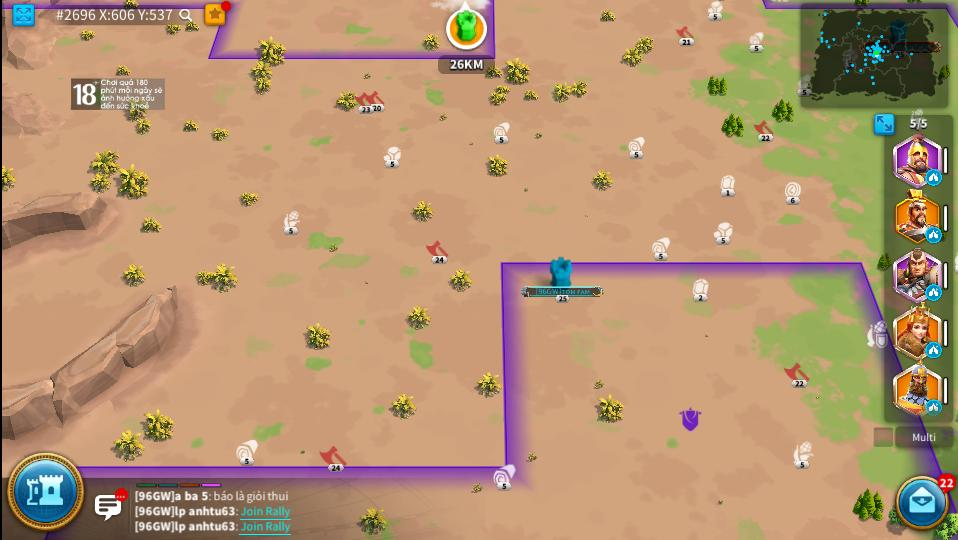gem-z-out: (693, 278, 709, 302), (720, 173, 734, 198)
march_idle: (925, 228, 942, 242), (926, 170, 940, 185), (927, 400, 941, 415), (926, 285, 940, 299), (928, 343, 940, 357)
